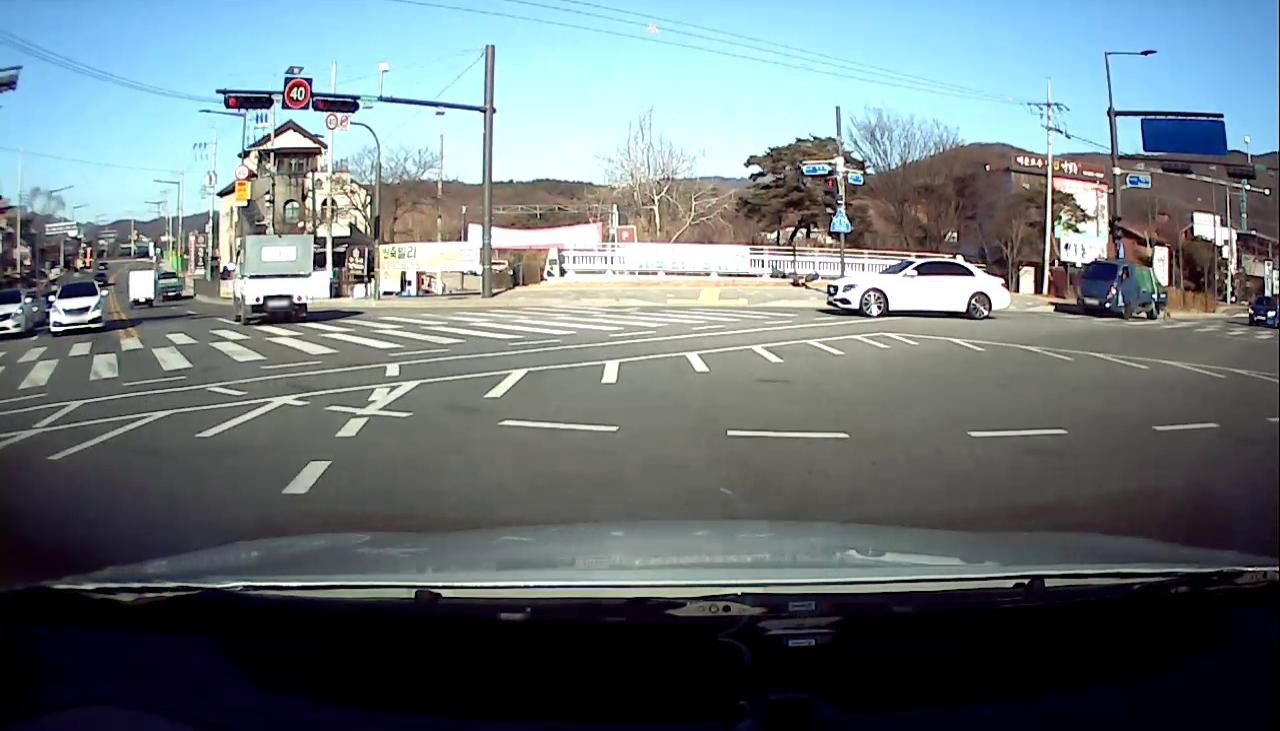Red Light: (225, 94, 238, 110), (313, 99, 326, 111)
